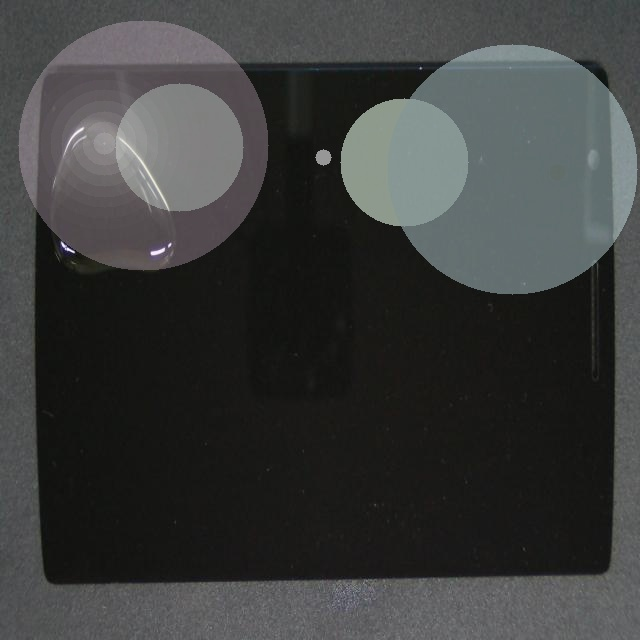oil: (87, 175, 266, 378)
